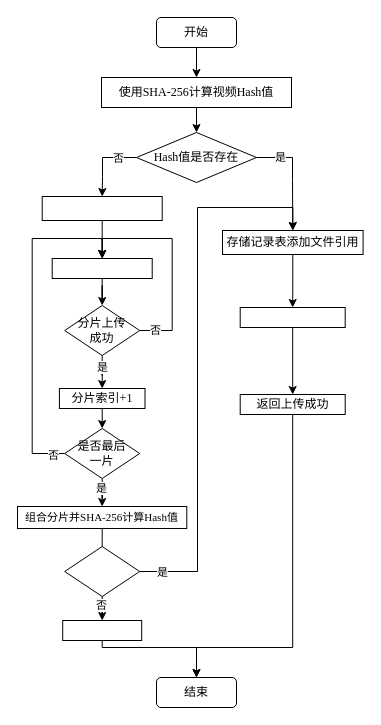
Image size: 381x725. Some labels were removed from this diagram. The shapes that lost their labels are listed below. From the top down, each one's centre as x and y in pixels, then its label:
pixel 101 208: 将文件进行分为N片
pixel 101 268: 按顺序上传分片
pixel 292 317: 记录日志
pixel 102 571: Hash 值 一致
pixel 102 630: 返回上传失败
